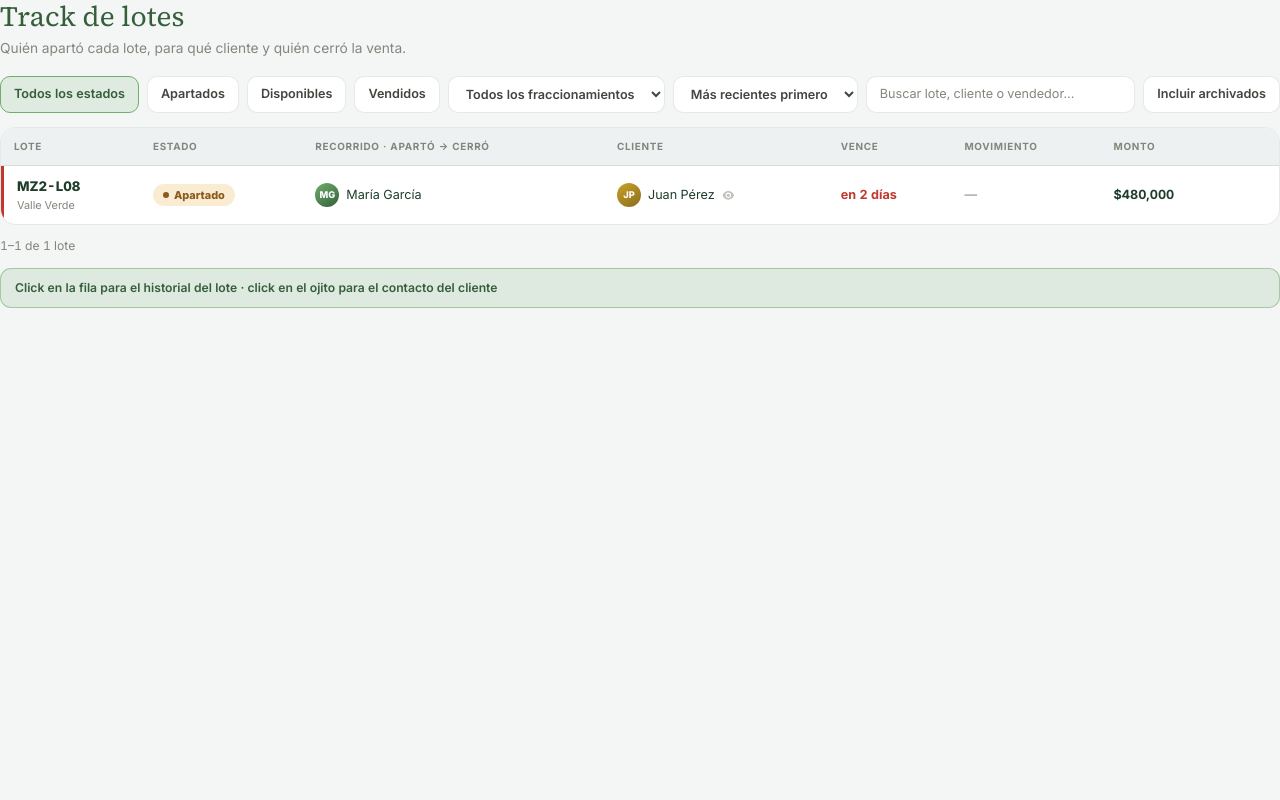
Test: Track de lotes › abre el contacto del cliente desde el ojito, sin abrir el historial
The width and height of the screenshot is (1280, 800).
Expected: the text "MZ2-L08" is shown, x1=17 y1=178 x2=80 y2=194
Click the button named "Ver contacto de Juan Pérez".
click(728, 195)  # box x1=717 y1=184 x2=740 y2=207
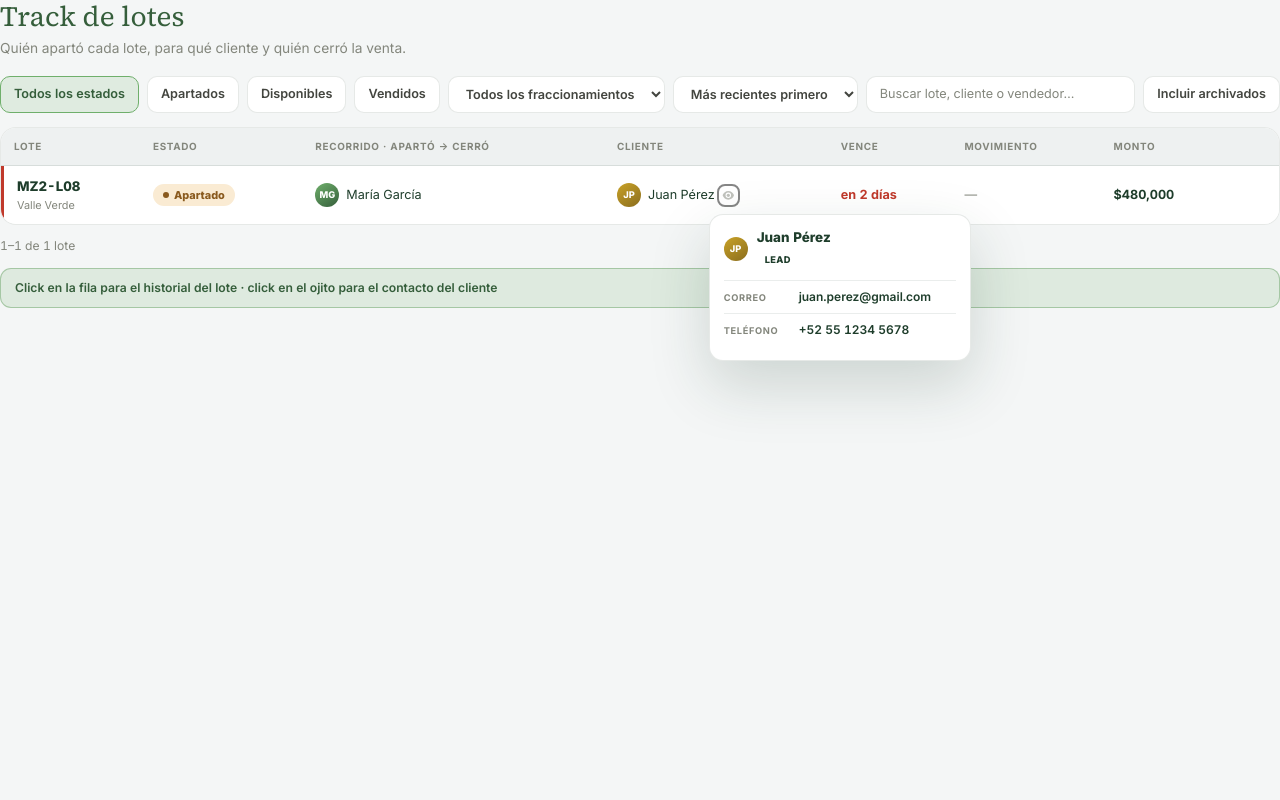
Expected: the text "juan.perez@gmail.com" is shown, x1=799 y1=288 x2=931 y2=306
Expected: the text "+52 55 1234 5678" is shown, x1=799 y1=322 x2=909 y2=340
